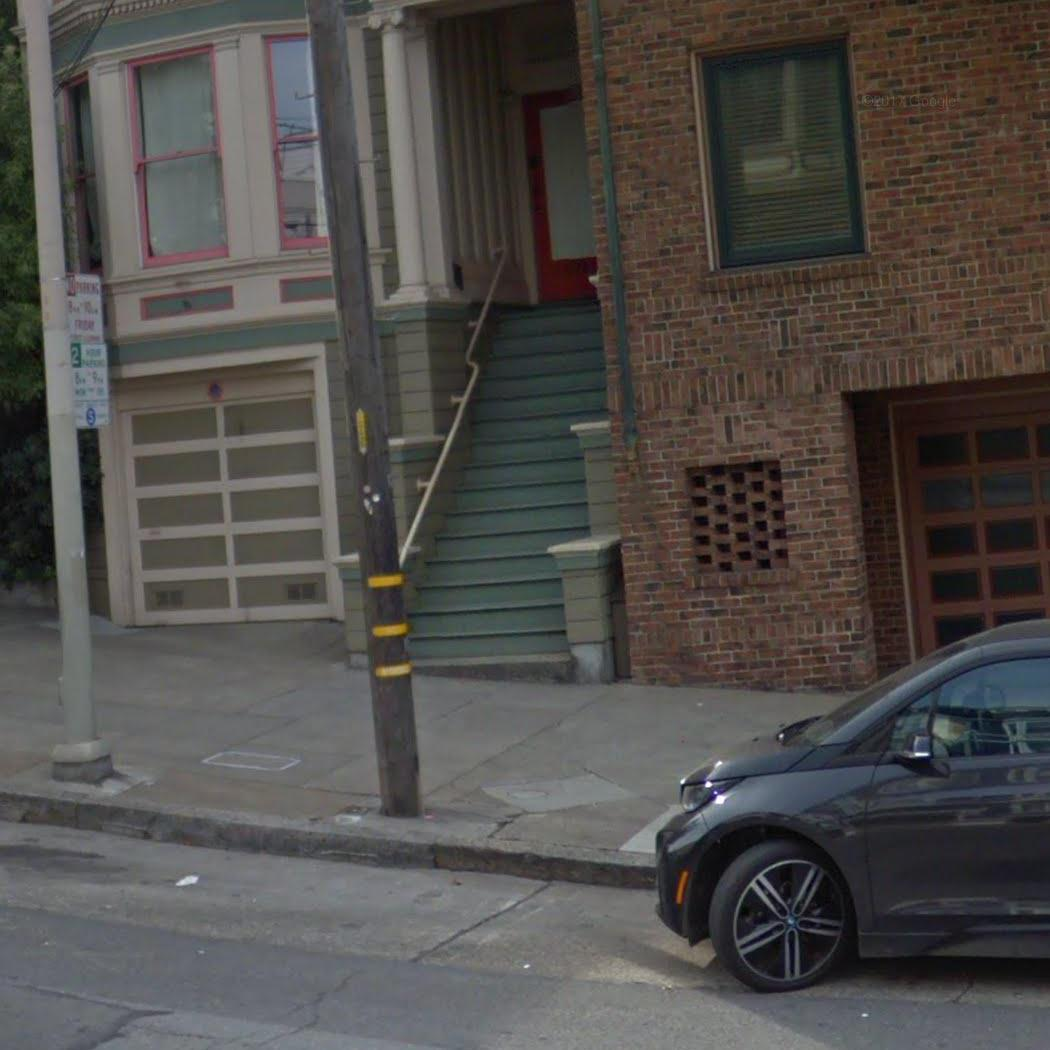2 Hour Parking: (65, 342, 116, 431)
No Parking: (64, 270, 107, 347)
